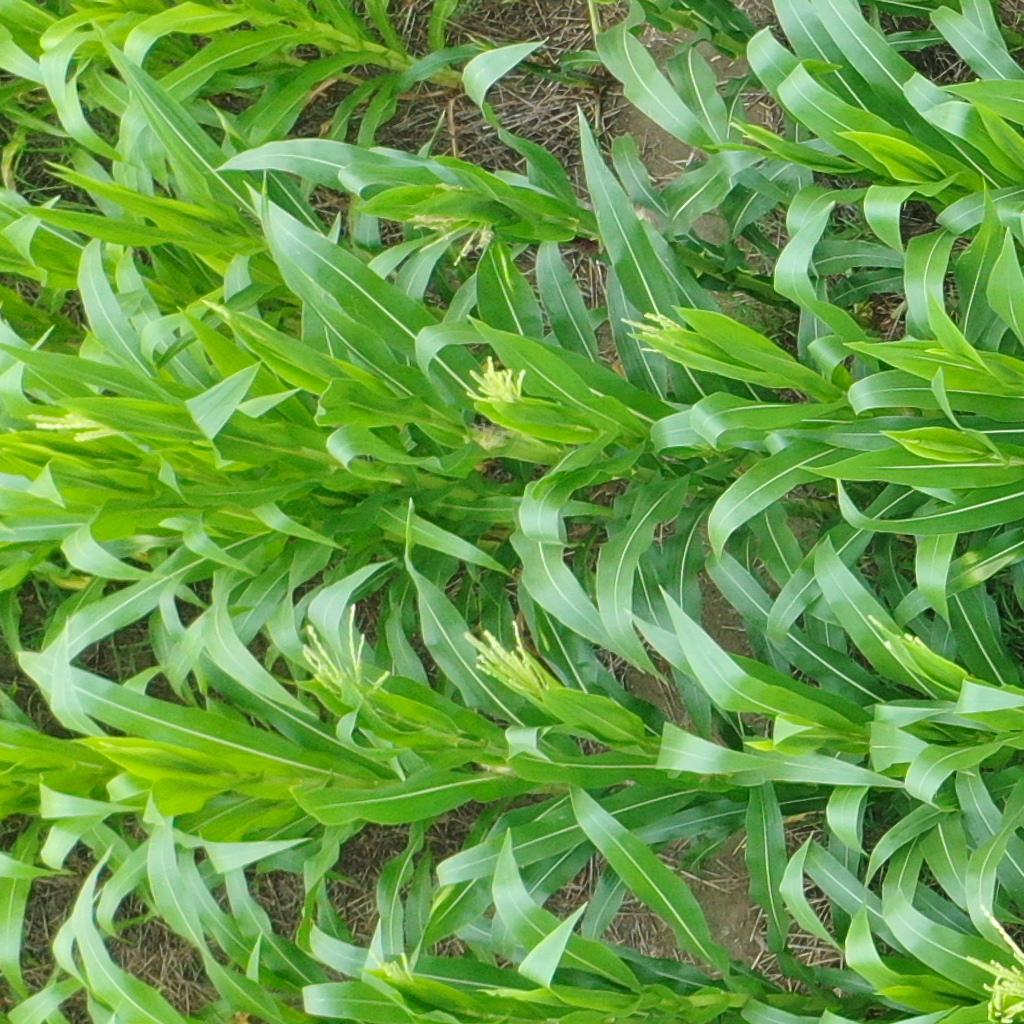Tassel: (297, 606, 392, 697), (405, 182, 504, 269), (461, 617, 553, 695), (966, 899, 1024, 1019), (461, 352, 530, 411), (34, 403, 125, 446), (617, 302, 685, 358), (864, 613, 926, 651), (728, 118, 785, 148), (366, 950, 417, 982)
